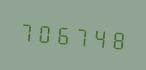eight: (108, 23, 125, 54)
four: (90, 21, 107, 52)
seven: (72, 19, 89, 51), (17, 15, 34, 46)
six: (54, 18, 71, 49)
zero: (35, 16, 52, 48)
